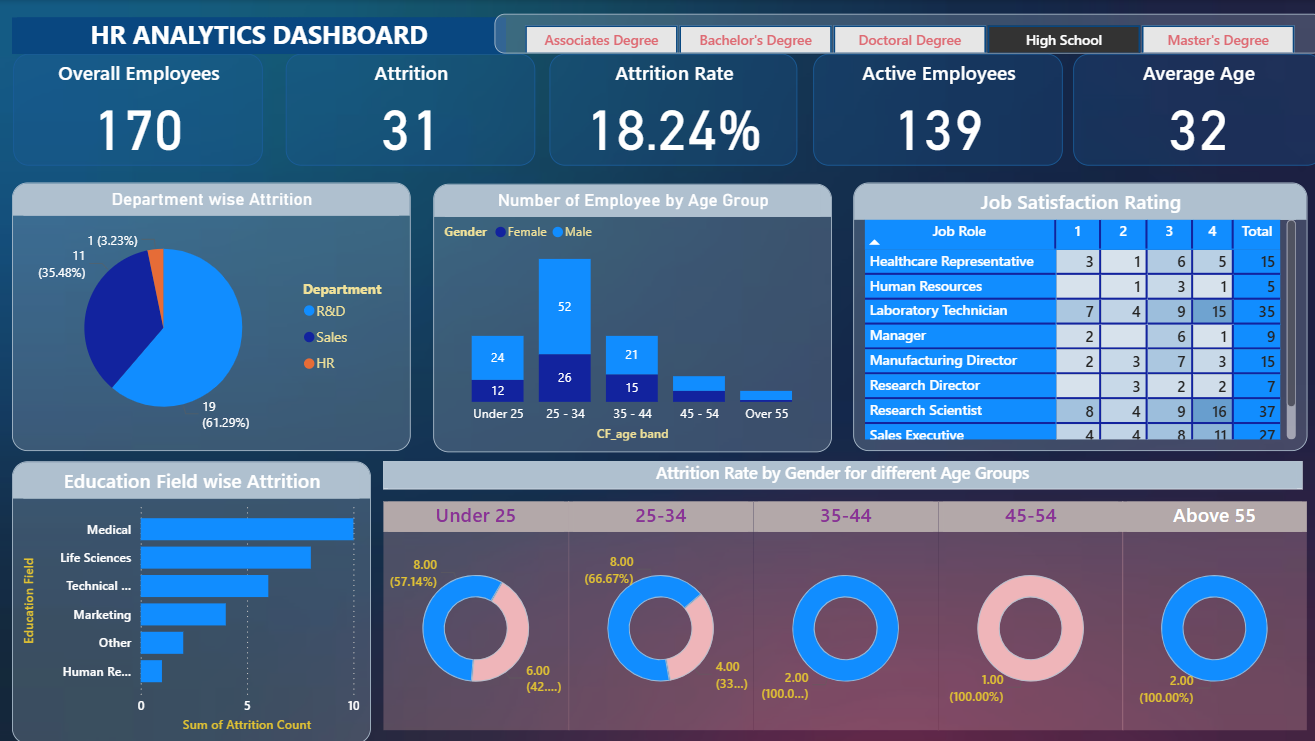

What the dashboard file says about the page in this screenshot:
{"tool":"powerbi","page":{"name":"Page 1","canvas":[1280,720],"ordinal":0},"visuals":[{"type":"card","title":"Overall Employees","fields":{"Values":["Sum(HR data.Employee Count)"]},"box":[15.2,52.3,241.1,107.9],"z":0},{"type":"card","title":"Attrition","fields":{"Values":["Sum(HR data.Attrition Count)"]},"box":[278.2,52.3,241.1,107.9],"z":1000},{"type":"card","title":"Attrition Rate","fields":{"Values":["HR data.Attrition Rate"]},"box":[532.8,52.3,239.4,107.9],"z":2000},{"type":"card","title":"Active Employees","fields":{"Values":["HR data.Active Employees"]},"box":[787.4,52.3,241.1,107.9],"z":3000},{"type":"card","title":"Average Age","fields":{"Values":["Avg(HR data.Age)"]},"box":[1038.6,52.3,241.1,107.9],"z":4000},{"type":"pieChart","title":"Department wise Attrition","fields":{"Category":["HR data.Department"],"Y":["Sum(HR data.Attrition Count)"]},"box":[15.1,175.7,384.8,259.3],"z":5000},{"type":"columnChart","title":"Number of Employee by Age Group ","fields":{"Category":["HR data.CF_age band"],"Y":["Sum(HR data.Employee Count)"],"Series":["HR data.Gender"]},"box":[421.6,177.3,384.8,259.3],"z":6000},{"type":"pivotTable","title":"Job Satisfaction Rating","fields":{"Rows":["HR data.Job Role"],"Columns":["HR data.Job Satisfaction"],"Values":["Sum(HR data.Employee Count)"]},"box":[826.4,175.7,438.3,259.3],"z":7000},{"type":"barChart","title":"Education Field wise Attrition","fields":{"Category":["HR data.Education Field"],"Y":["Sum(HR data.Attrition Count)"]},"box":[15.1,445,346.3,272.7],"z":8000},{"type":"donutChart","title":"Under 25","fields":{"Category":["HR data.Gender"],"Y":["Sum(HR data.Attrition Count)"],"Series":["HR data.CF_age band"]},"box":[372.6,483.9,179,220.9],"z":9000},{"type":"textbox","title":"Attrition Rate by Gender for different Age Groups","box":[372.6,445.1,886.8,27],"z":10000},{"type":"donutChart","title":"25-34","fields":{"Category":["HR data.Gender"],"Y":["Sum(HR data.Attrition Count)"],"Series":["HR data.CF_age band"]},"box":[551.3,483.9,178.7,220.9],"z":11000},{"type":"donutChart","title":"35-44","fields":{"Category":["HR data.Gender"],"Y":["Sum(HR data.Attrition Count)"],"Series":["HR data.CF_age band"]},"box":[730,483.9,178.7,220.9],"z":12000},{"type":"donutChart","title":"45-54","fields":{"Category":["HR data.Gender"],"Y":["Sum(HR data.Attrition Count)"],"Series":["HR data.CF_age band"]},"box":[908.8,483.9,178.7,220.9],"z":13000},{"type":"donutChart","title":"Above 55","fields":{"Category":["HR data.Gender"],"Y":["Sum(HR data.Attrition Count)"],"Series":["HR data.CF_age band"]},"box":[1085.8,483.9,178.7,220.9],"z":14000},{"type":"textbox","title":"HR ANALYTICS DASHBOARD","box":[15.1,16.7,476.8,35.1],"z":15000},{"type":"slicer","fields":{"Values":["HR data.Education"]},"box":[480.1,13.4,799.6,38.5],"z":16000}]}

Visuals, with their boxes in screenshot pixels (x1, y1, x2, y2), scaled from the page's 1280x720 canvas onto the 1315x741 screenshot:
"Overall Employees" card: box=[16, 54, 263, 165]
"Attrition" card: box=[286, 54, 533, 165]
"Attrition Rate" card: box=[547, 54, 793, 165]
"Active Employees" card: box=[809, 54, 1057, 165]
"Average Age" card: box=[1067, 54, 1314, 165]
"Department wise Attrition" pieChart: box=[16, 181, 411, 448]
"Number of Employee by Age Group " columnChart: box=[433, 182, 828, 449]
"Job Satisfaction Rating" pivotTable: box=[849, 181, 1299, 448]
"Education Field wise Attrition" barChart: box=[16, 458, 371, 739]
"Under 25" donutChart: box=[383, 498, 567, 725]
"Attrition Rate by Gender for different Age Groups" textbox: box=[383, 458, 1294, 486]
"25-34" donutChart: box=[566, 498, 750, 725]
"35-44" donutChart: box=[750, 498, 934, 725]
"45-54" donutChart: box=[934, 498, 1117, 725]
"Above 55" donutChart: box=[1115, 498, 1299, 725]
"HR ANALYTICS DASHBOARD" textbox: box=[16, 17, 505, 53]
slicer - HR data.Education: box=[493, 14, 1314, 53]
